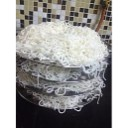idiyappam: (22, 23, 105, 61)
